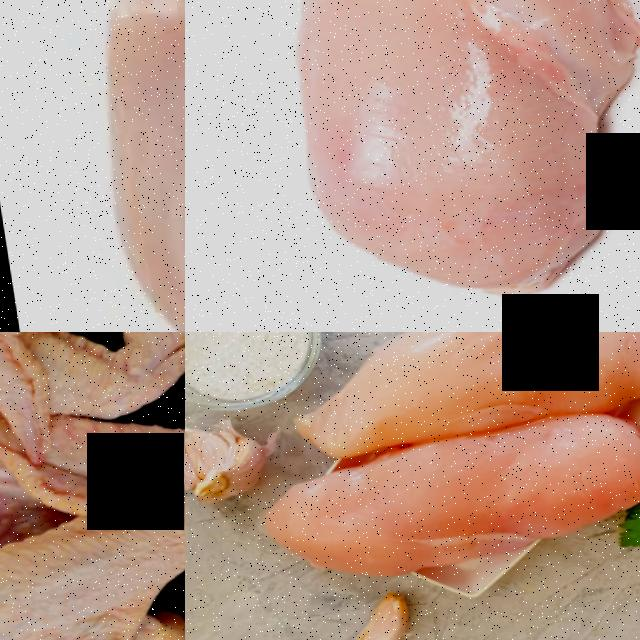chicken breast: (207, 0, 640, 332), (252, 426, 640, 603), (32, 0, 185, 332), (269, 332, 640, 467)
chicken wing: (0, 427, 185, 640), (0, 332, 179, 460)
